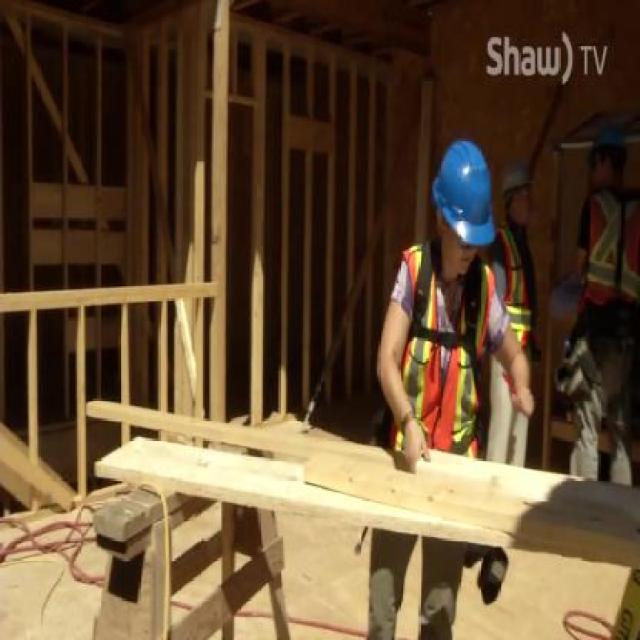Vest: (386, 241, 496, 457), (578, 187, 639, 319), (497, 219, 538, 361)
helmet: (432, 141, 497, 247), (590, 122, 627, 164), (501, 162, 534, 196)
person: (373, 143, 528, 640), (569, 124, 640, 483), (494, 158, 544, 360)
